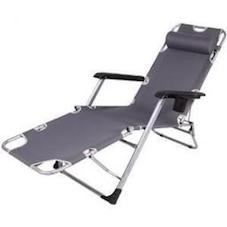chair: (0, 8, 222, 208)
